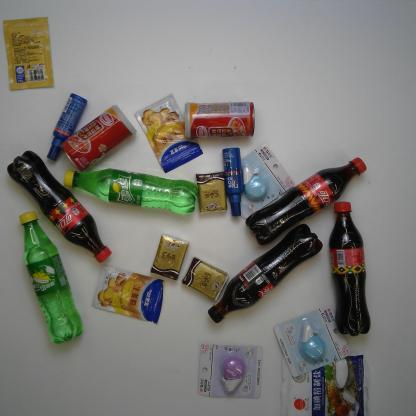Canned Food: (59, 100, 138, 173), (182, 99, 257, 141)
Drink: (206, 220, 326, 327), (6, 150, 113, 266), (243, 156, 368, 247), (13, 209, 80, 344), (61, 167, 198, 216), (327, 200, 372, 339)
Personal Hygiene: (43, 90, 88, 162), (221, 144, 245, 218)
Seasoner: (132, 92, 206, 177), (278, 353, 368, 416), (89, 262, 168, 326), (1, 14, 58, 91)
Stationery: (272, 299, 354, 380), (216, 142, 296, 224), (194, 342, 267, 400)
Tissue: (180, 256, 231, 302), (146, 231, 190, 282), (194, 169, 228, 214)
